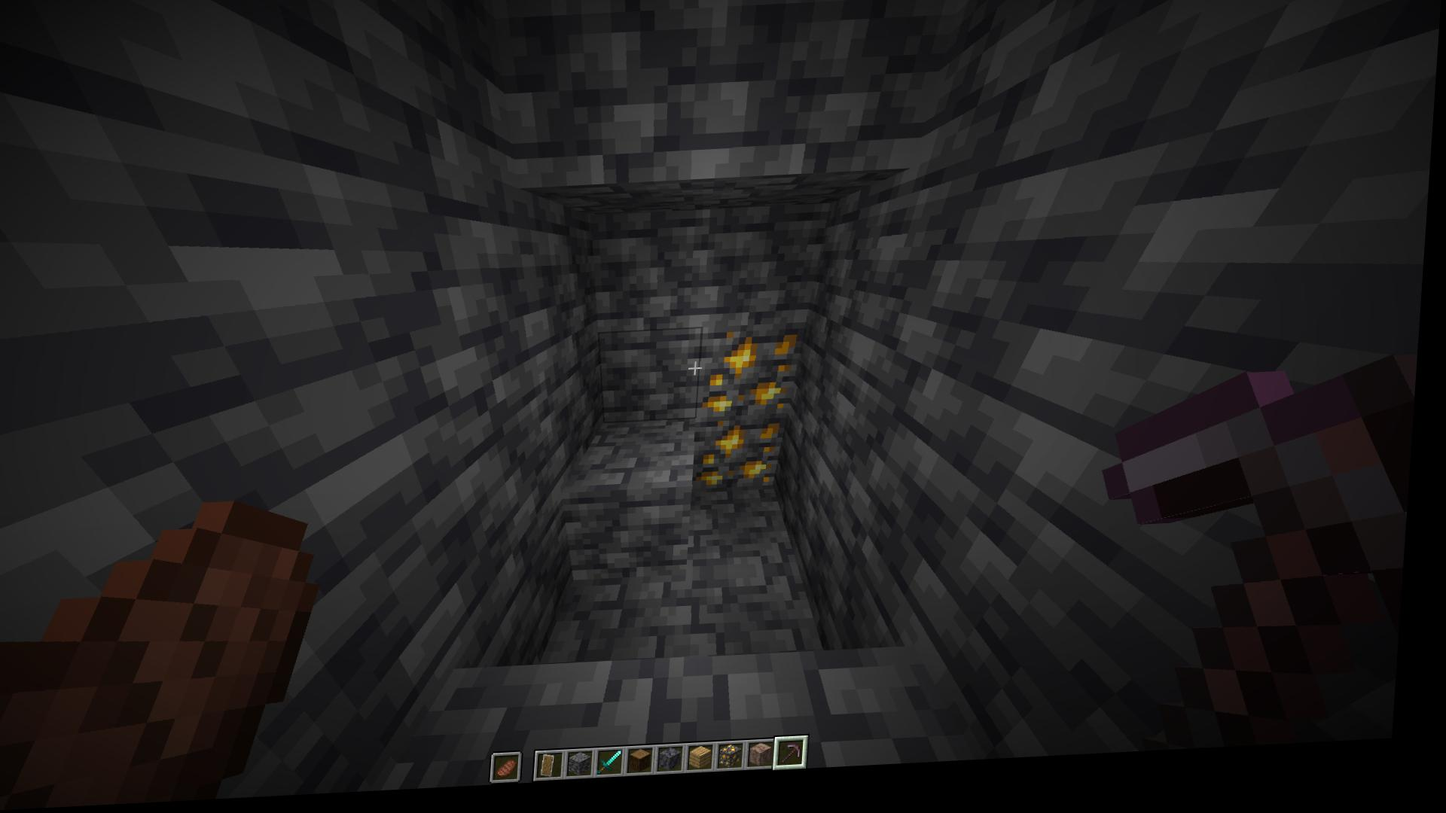gold ore: (703, 335, 804, 428), (700, 426, 793, 497)
